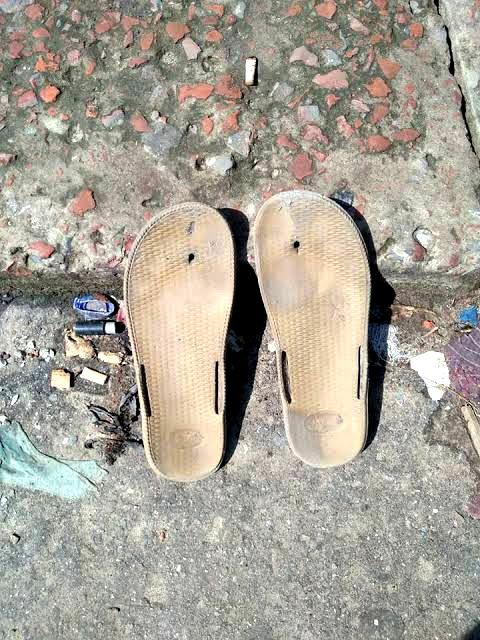sandal: (110, 207, 271, 494), (250, 160, 393, 474)
